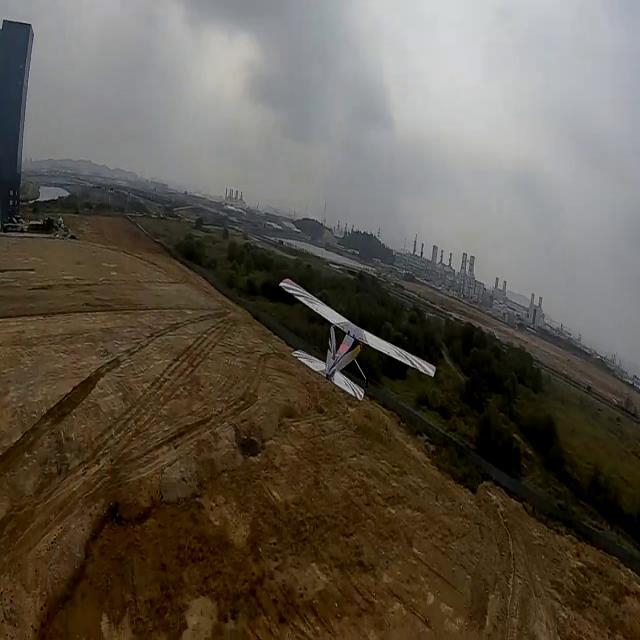iha: (277, 273, 439, 405)
